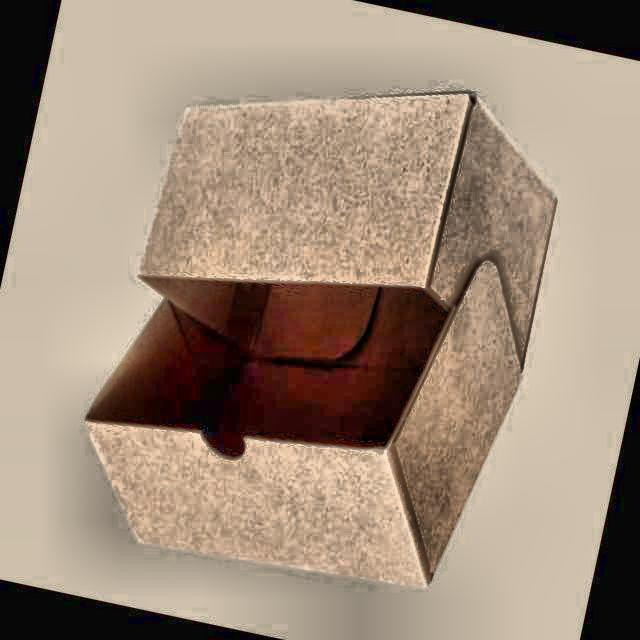cardboard: (83, 91, 558, 592)
